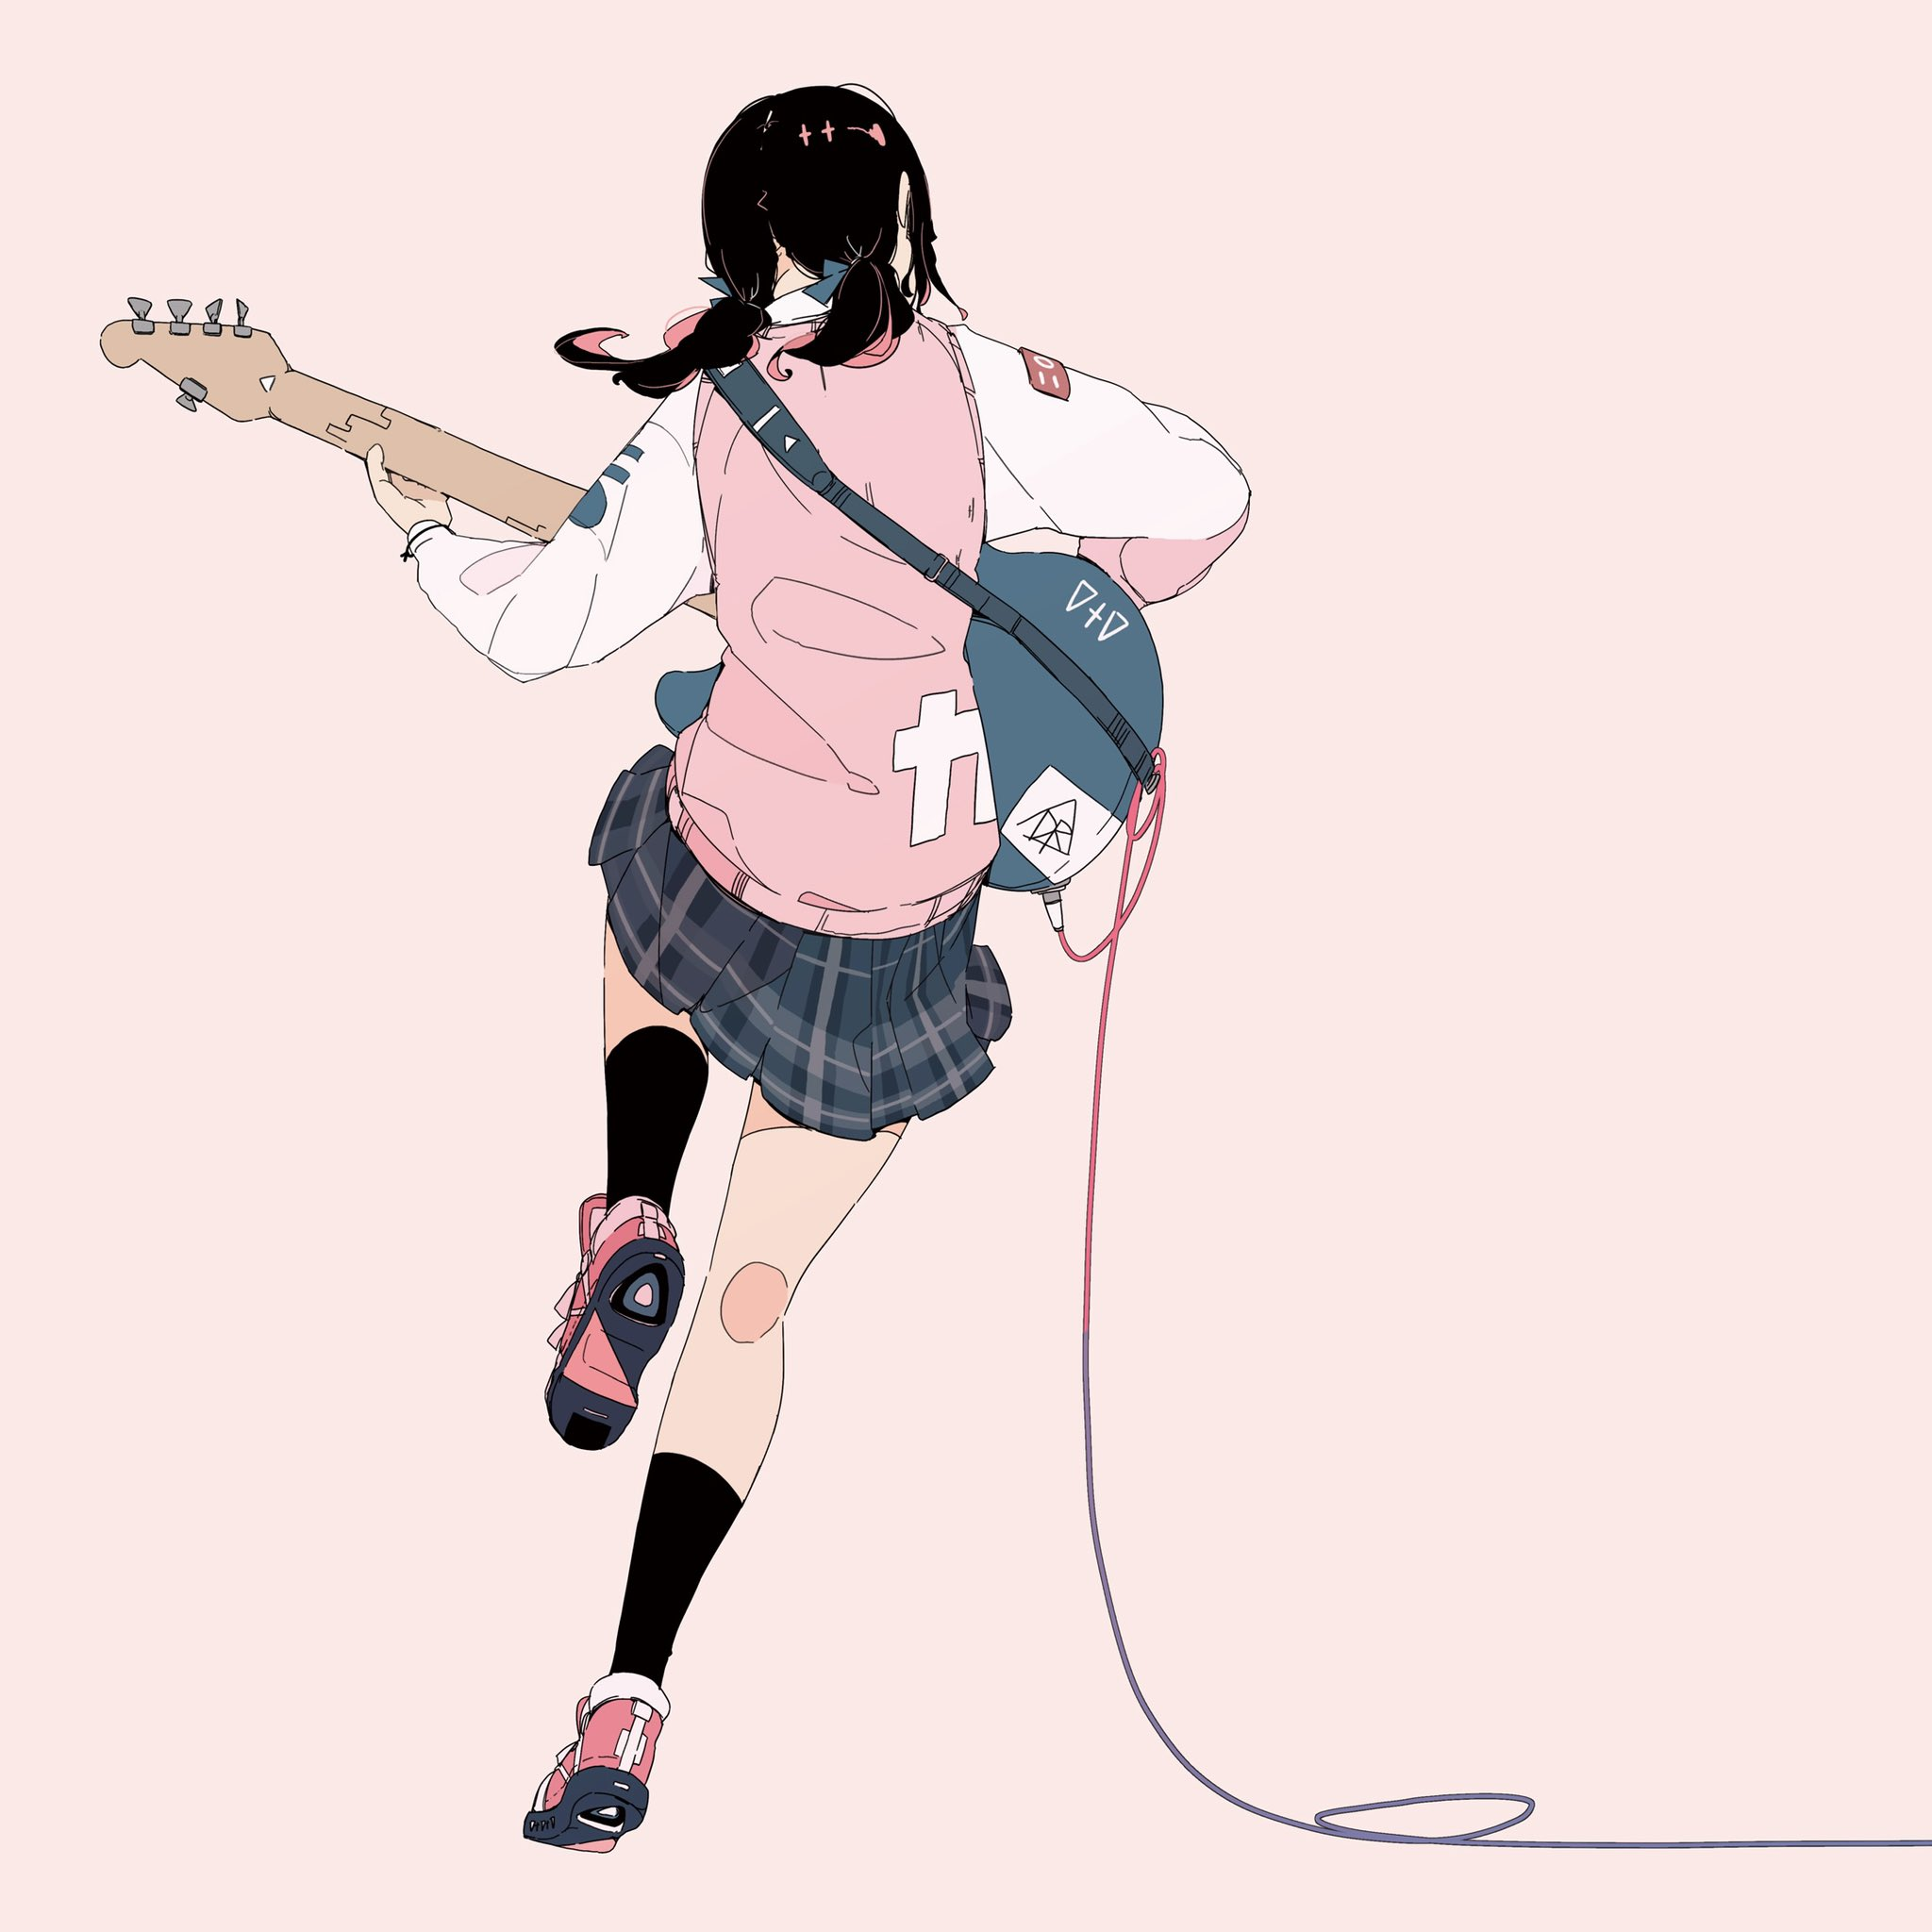p: (304, 83, 1329, 1868)
